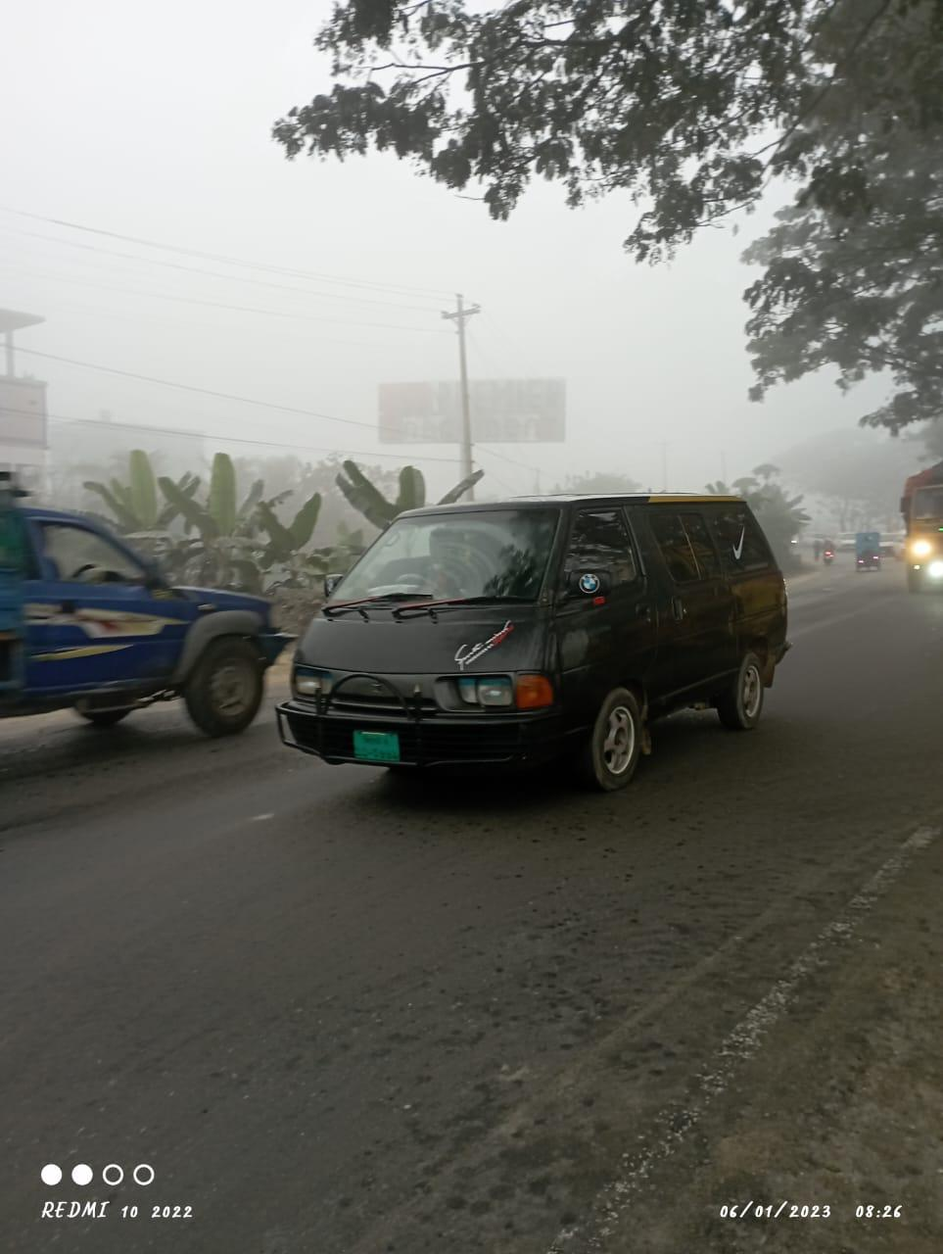Car: (272, 481, 800, 777), (847, 522, 894, 577)
Truck: (1, 467, 294, 738)
